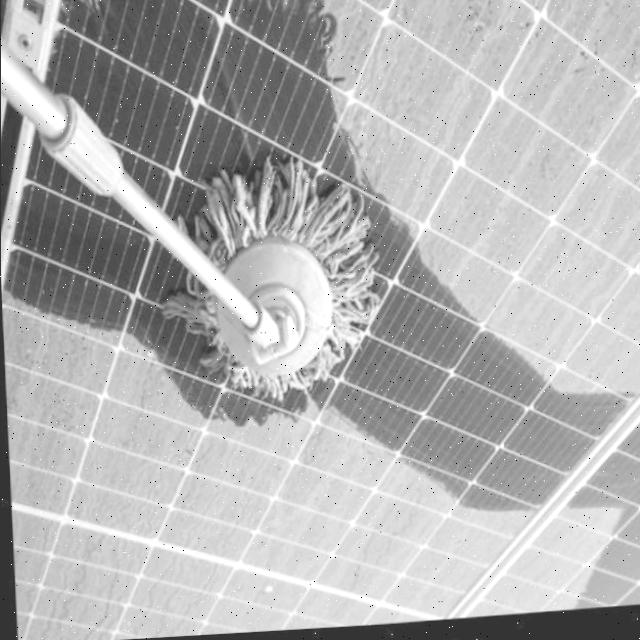Anomaly Solar Panel: (0, 0, 640, 640)
Surface Contaminant: (0, 298, 532, 640), (305, 0, 640, 402), (452, 512, 622, 623)
